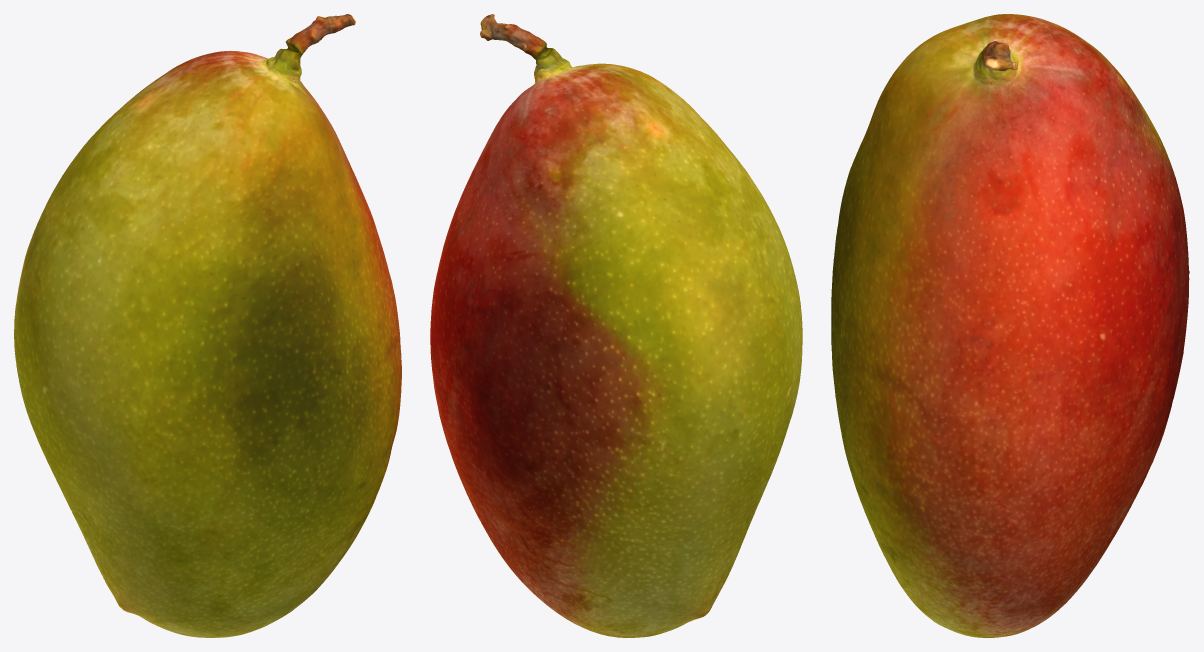
Rendered from dapoli_mango.glb.
3 views of the same model, side by side, from view 1: azimuth 30°, elevation 25°; view 2: azimuth 150°, elevation 25°; view 3: azimuth 270°, elevation 25° (orthographic). The views are drawn at different scales.
Parts seen in each view (by area): view 1: Object_2, Object_3, Object_4; view 2: Object_2, Object_3, Object_4; view 3: Object_3, Object_4, Object_2.
Boxes of the visible parts, x1=… form: Object_2: x1=14, y1=55, x2=317, y2=637; Object_3: x1=33, y1=14, x2=401, y2=629; Object_4: x1=20, y1=55, x2=401, y2=637; Object_2: x1=460, y1=77, x2=802, y2=637; Object_3: x1=430, y1=14, x2=799, y2=632; Object_4: x1=430, y1=69, x2=802, y2=637; Object_3: x1=831, y1=17, x2=1187, y2=632; Object_4: x1=831, y1=16, x2=1189, y2=637; Object_2: x1=831, y1=14, x2=1189, y2=498.
Size of the model in its own units: 1.29 by 2.1 by 1.07.
Materials: 1 (1 with a texture image).
